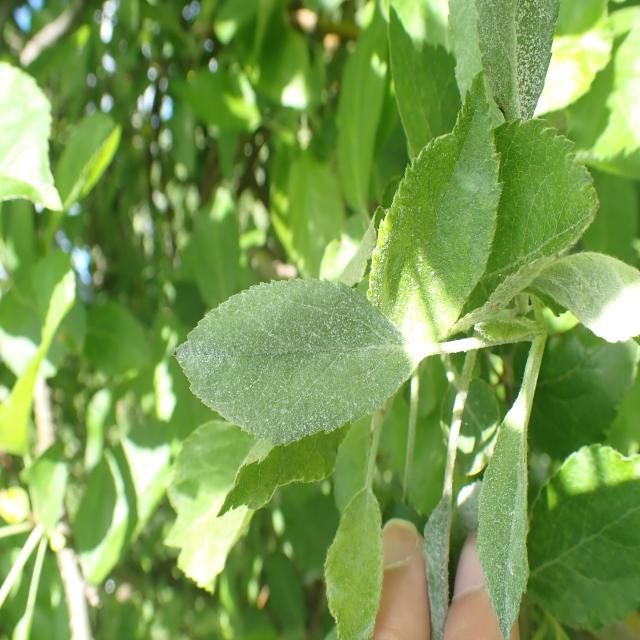Powdery_mildew: (171, 270, 418, 441), (368, 56, 499, 362), (473, 252, 640, 342), (482, 378, 532, 634), (477, 0, 559, 145), (417, 464, 463, 640)
